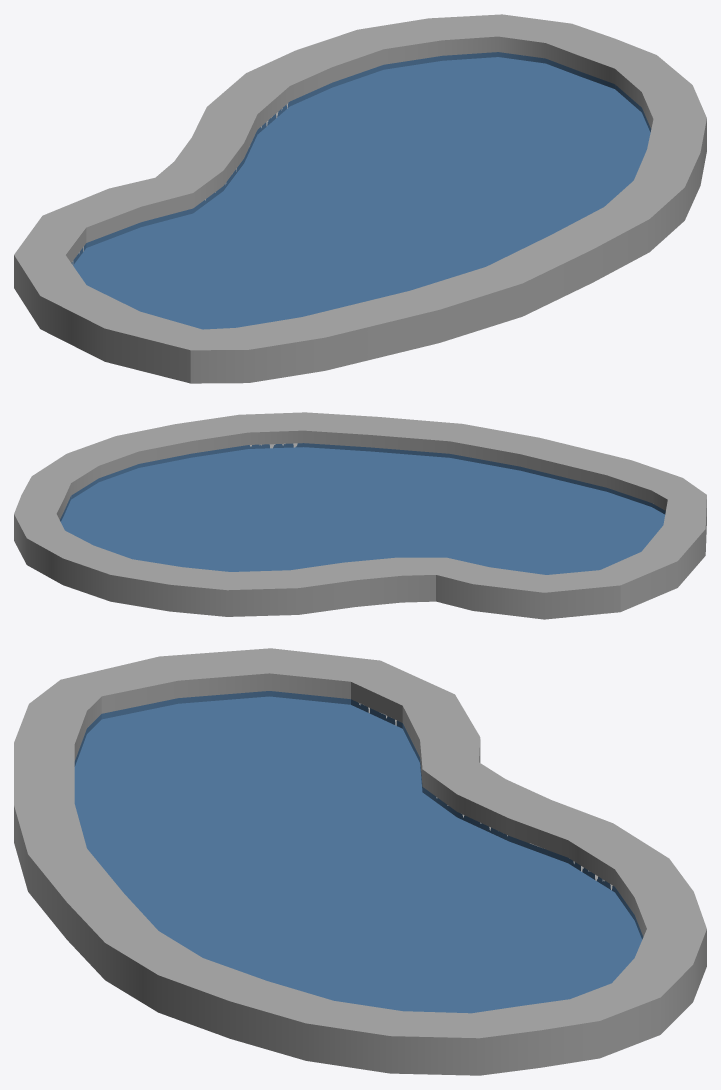
File: pond.fbx
The picture shows the model from 3 angles, top to bottom: view 1: azimuth 30°, elevation 25°; view 2: azimuth 150°, elevation 25°; view 3: azimuth 270°, elevation 25°; orthographic projection. The views are drawn at different scales.
Visible parts, largest first — view 1: polySurface1; view 2: polySurface1; view 3: polySurface1.
Boxes of the visible parts, box(x1,y1,x2,y2) form: polySurface1: box(14, 14, 706, 383); polySurface1: box(14, 412, 706, 619); polySurface1: box(14, 648, 706, 1075).
Bounding box in the file's own units: 9.89 × 0.4432 × 7.43.
1 material, 1 textured.
